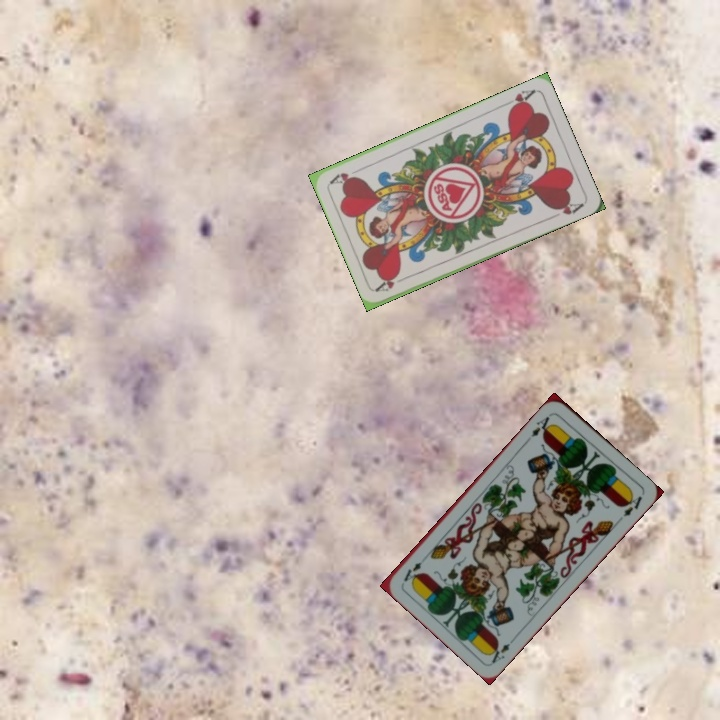EA: (485, 632, 519, 666), (527, 410, 555, 440)
HA: (499, 85, 538, 114), (373, 271, 412, 294)
